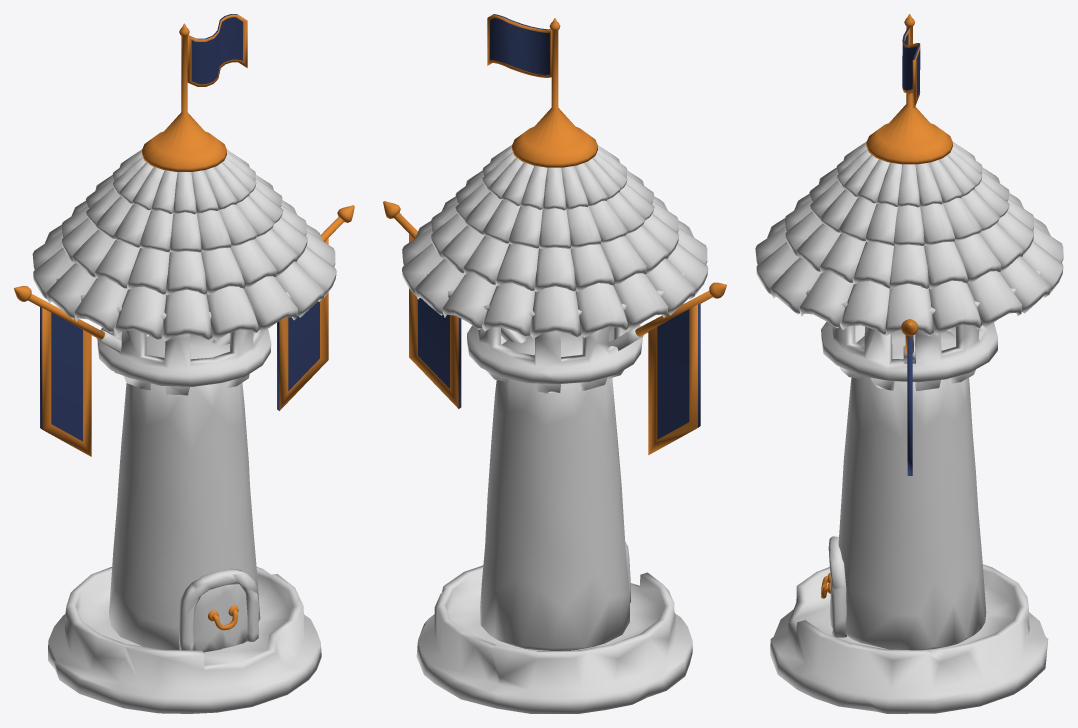
The model's file is Tower .fbx.
The picture shows the model from 3 angles, left to right: view 1: azimuth 30°, elevation 25°; view 2: azimuth 150°, elevation 25°; view 3: azimuth 270°, elevation 25°; orthographic projection.
Parts seen in each view (by area): view 1: Cylinder.4, Plane.001, Sphere.001, Cylinder.063, Cylinder.061, Cylinder.064, Cylinder.060, Cylinder.065, Cylinder.059, Cylinder.066, Cylinder.091, Cylinder.058 (+3 smaller); view 2: Cylinder.4, Plane.001, Cylinder.056, Sphere.001, Cylinder.055, Cylinder.057, Cylinder.058, Cylinder.054, Cylinder.059, Cylinder.053, Cylinder.052, Cylinder.060 (+3 smaller); view 3: Cylinder.4, Cylinder.051, Cylinder.050, Cylinder.068, Cylinder.052, Cylinder.067, Sphere.001, Cylinder.066, Cylinder.053, Cylinder.065, Cylinder.054, Plane.001 (+2 smaller).
Boxes of the visible parts, left/top/right/bottom form: Cylinder.4: left=48, top=327, right=321, bottom=713; Plane.001: left=40, top=14, right=328, bottom=456; Sphere.001: left=14, top=23, right=354, bottom=630; Cylinder.063: left=161, top=172, right=212, bottom=341; Cylinder.061: left=113, top=170, right=177, bottom=340; Cylinder.064: left=191, top=170, right=259, bottom=340; Cylinder.060: left=74, top=167, right=164, bottom=332; Cylinder.065: left=204, top=167, right=297, bottom=331; Cylinder.059: left=46, top=162, right=153, bottom=319; Cylinder.066: left=215, top=162, right=324, bottom=317; Cylinder.091: left=56, top=276, right=311, bottom=652; Cylinder.058: left=33, top=157, right=145, bottom=299; Cylinder.4: left=416, top=325, right=692, bottom=713; Plane.001: left=409, top=14, right=700, bottom=455; Cylinder.056: left=530, top=167, right=580, bottom=338; Sphere.001: left=383, top=18, right=726, bottom=336; Cylinder.055: left=482, top=165, right=547, bottom=337; Cylinder.057: left=561, top=166, right=628, bottom=337; Cylinder.058: left=574, top=162, right=668, bottom=329; Cylinder.054: left=442, top=162, right=533, bottom=329; Cylinder.059: left=585, top=158, right=695, bottom=315; Cylinder.053: left=414, top=157, right=523, bottom=315; Cylinder.052: left=402, top=152, right=515, bottom=295; Cylinder.060: left=593, top=153, right=708, bottom=295; Cylinder.4: left=770, top=321, right=1048, bottom=713; Cylinder.051: left=915, top=162, right=981, bottom=335; Cylinder.050: left=885, top=164, right=933, bottom=335; Cylinder.068: left=839, top=162, right=901, bottom=335; Cylinder.052: left=929, top=159, right=1021, bottom=327; Cylinder.067: left=799, top=159, right=889, bottom=328; Sphere.001: left=821, top=14, right=952, bottom=598; Cylinder.066: left=770, top=154, right=878, bottom=314; Cylinder.053: left=940, top=155, right=1050, bottom=313; Cylinder.065: left=756, top=149, right=870, bottom=294; Cylinder.054: left=948, top=150, right=1063, bottom=294; Plane.001: left=902, top=27, right=920, bottom=475.
Bounding box in the file's own units: 5267 × 9354 × 4069.
